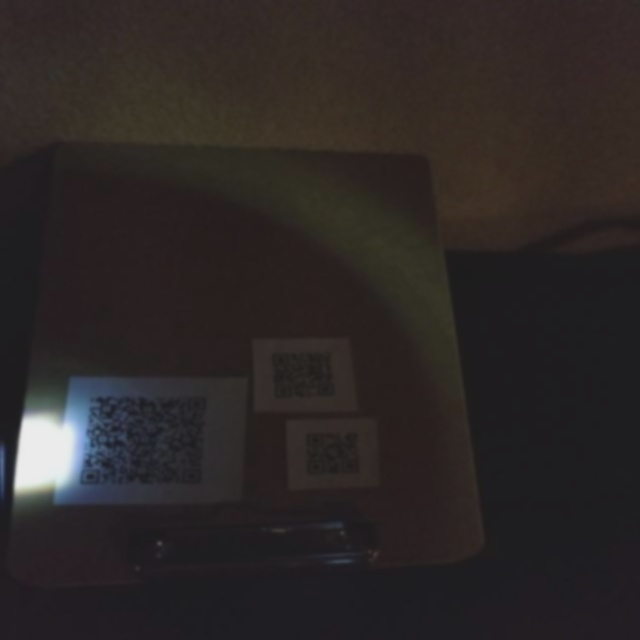qr-code: (69, 389, 219, 498), (261, 342, 344, 408), (295, 425, 372, 486)
